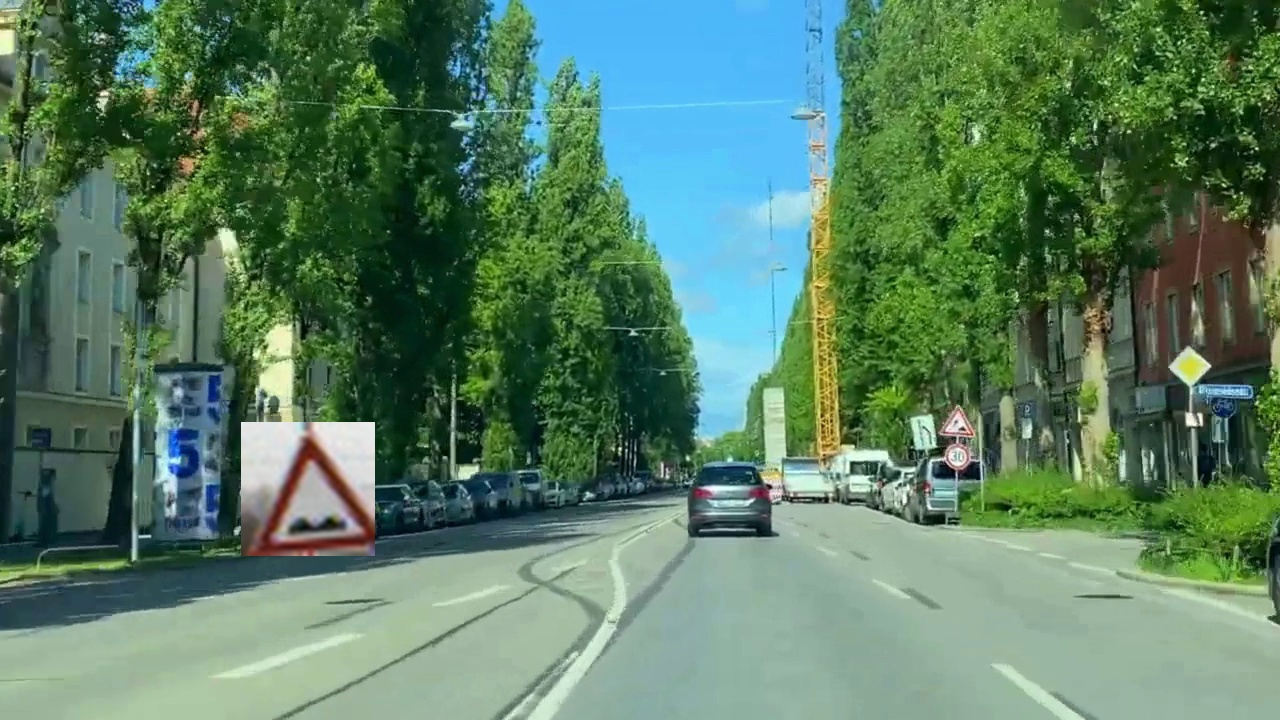Bumpy road: (241, 422, 375, 556)
